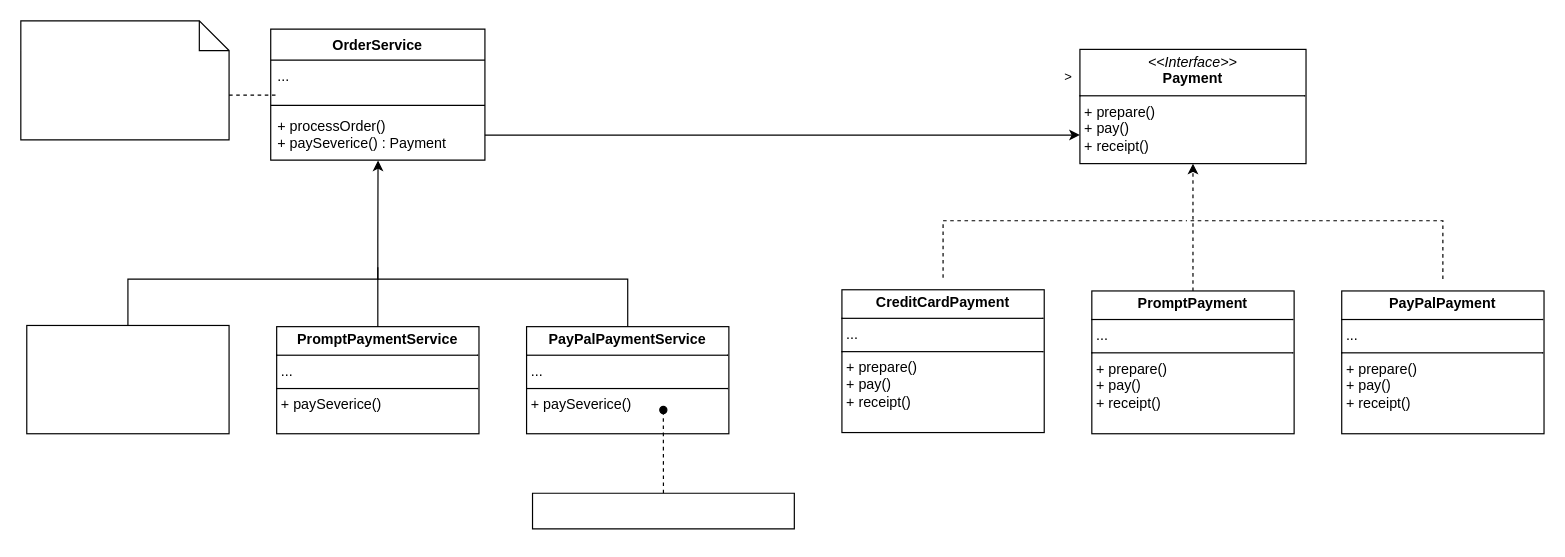
The diagram is 1565 pixels wide and 557 high, and some of its shapes have lost their labels. The shapes that lost their labels are listed below. From the top down, each one's centre as x and y in pixels, then its label:
At (x=124, y=80): "Order order = paySeverice() order.prepare() order.pay() order.receipt()".
At (x=127, y=379): "CeditCardPayment Service ... + paySeverice()".
At (x=662, y=510): "return new PayPalPayment Service".
